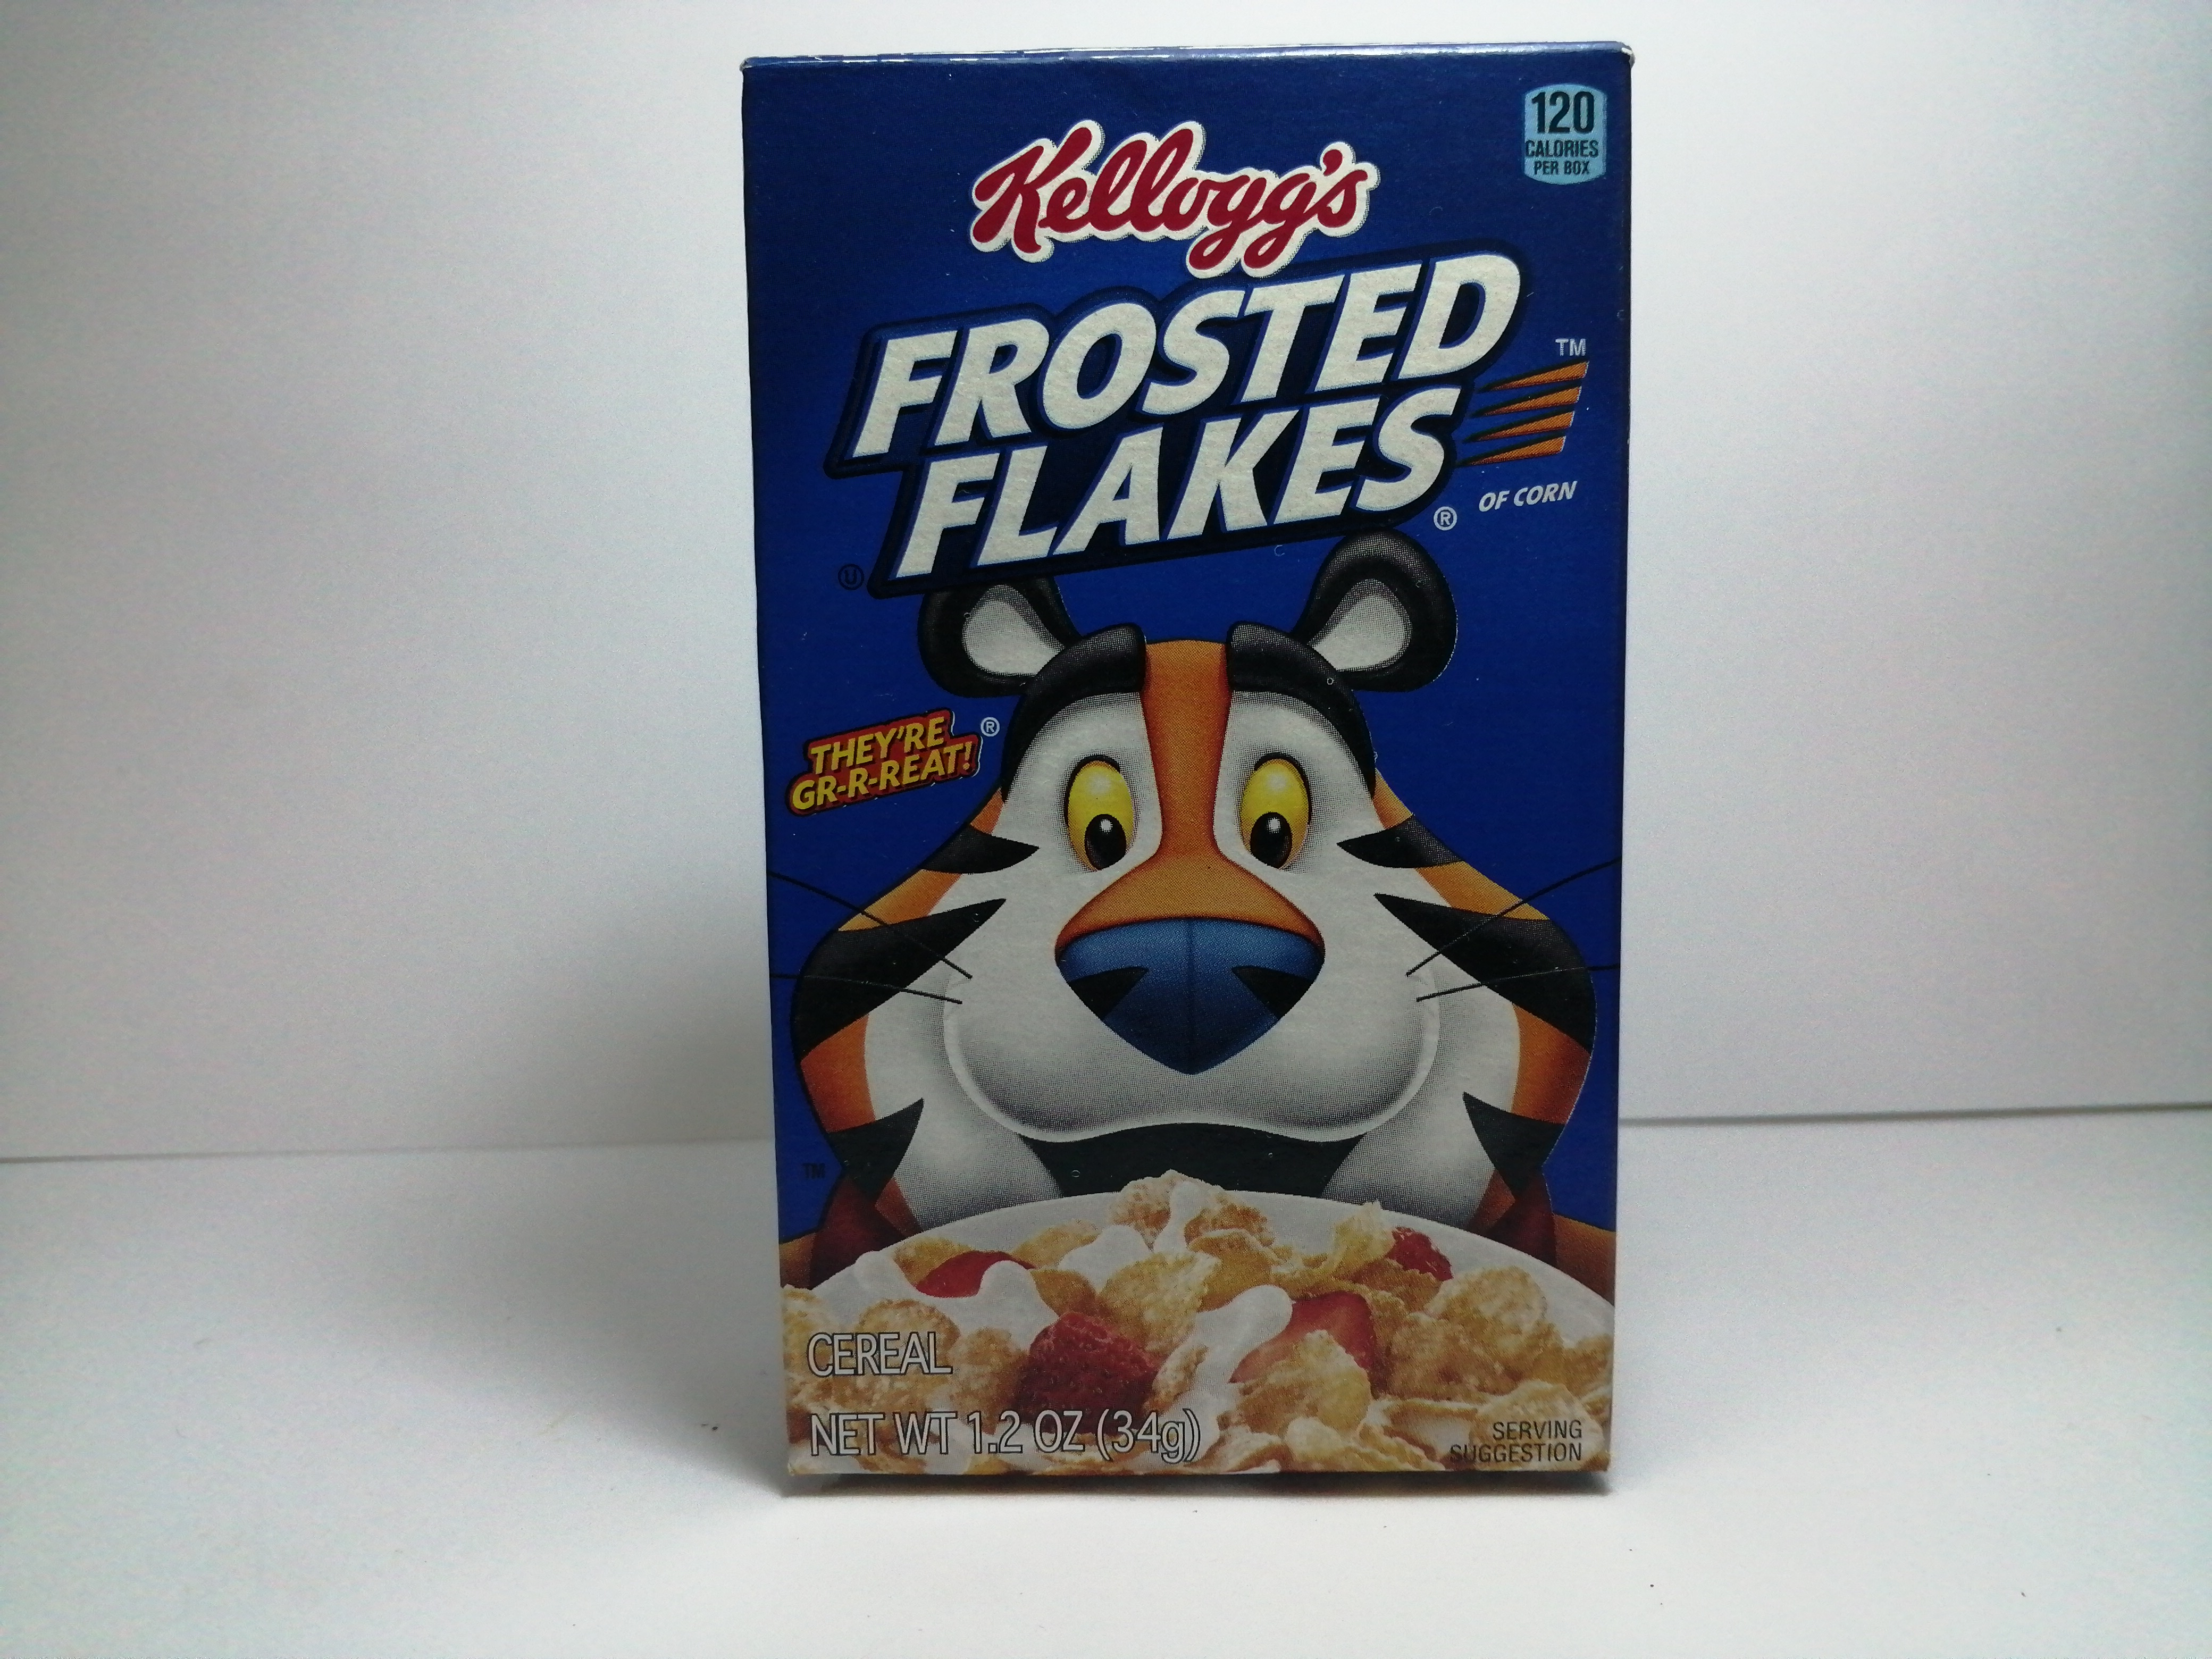cereal azucarado: (712, 33, 1646, 1527)
